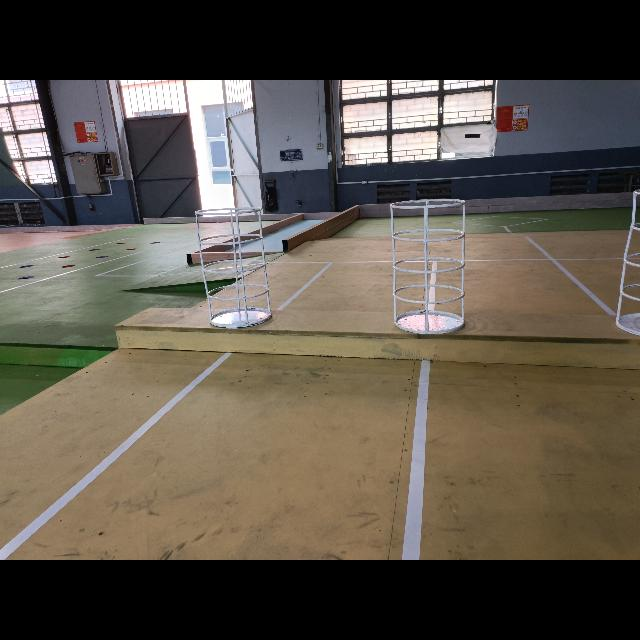S: (390, 197, 467, 335), (194, 206, 273, 329), (614, 189, 640, 338)
